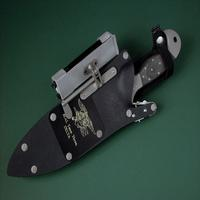knife: (4, 23, 189, 185)
